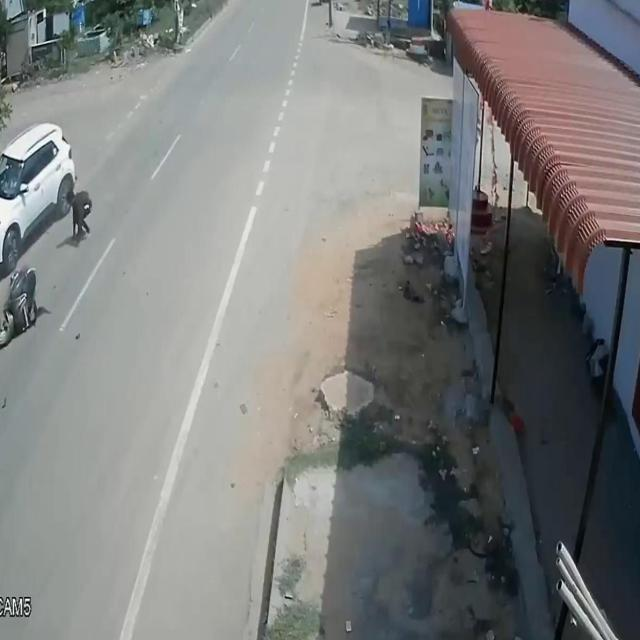accident: (0, 98, 99, 362)
